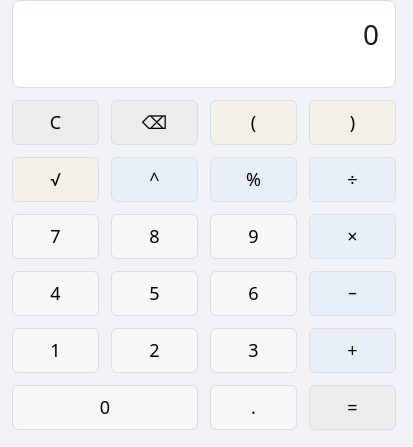
Scenario: Calculator › removes the final character when clicking delete
This screenshot has width=413, height=447.
What coordinates should you click on to do the following:
click the button "3"
I would click on:
 (254, 350)
Its box is [210,328,297,373].
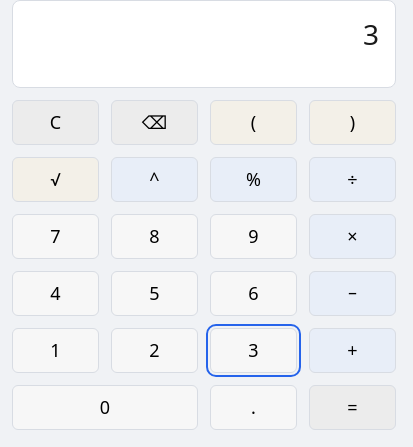
What coordinates should you click on to do the following:
click the button "4"
I would click on:
 (56, 294)
Its box is [12,271,99,316].
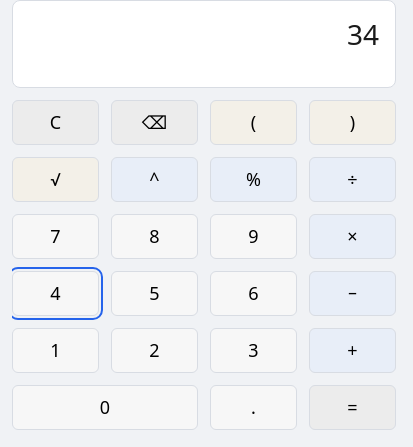
What coordinates should you click on to do the following:
click the button named "Delete last character"
I would click on:
 (154, 122)
Its box is [111,100,198,145].
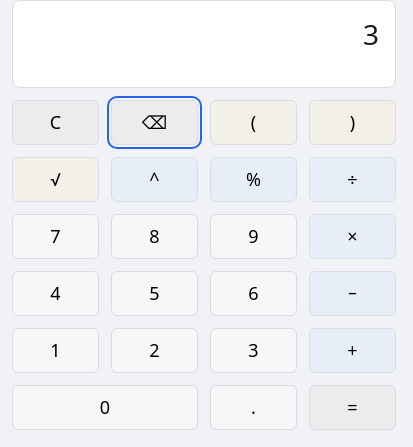
Check: the text named "Display" reads "3", box [363,15,379,53]
